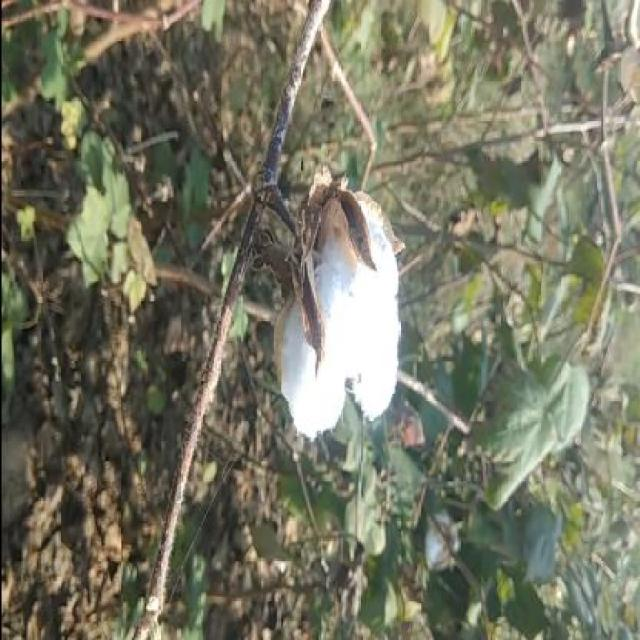cotton_ready: (189, 184, 429, 451)
